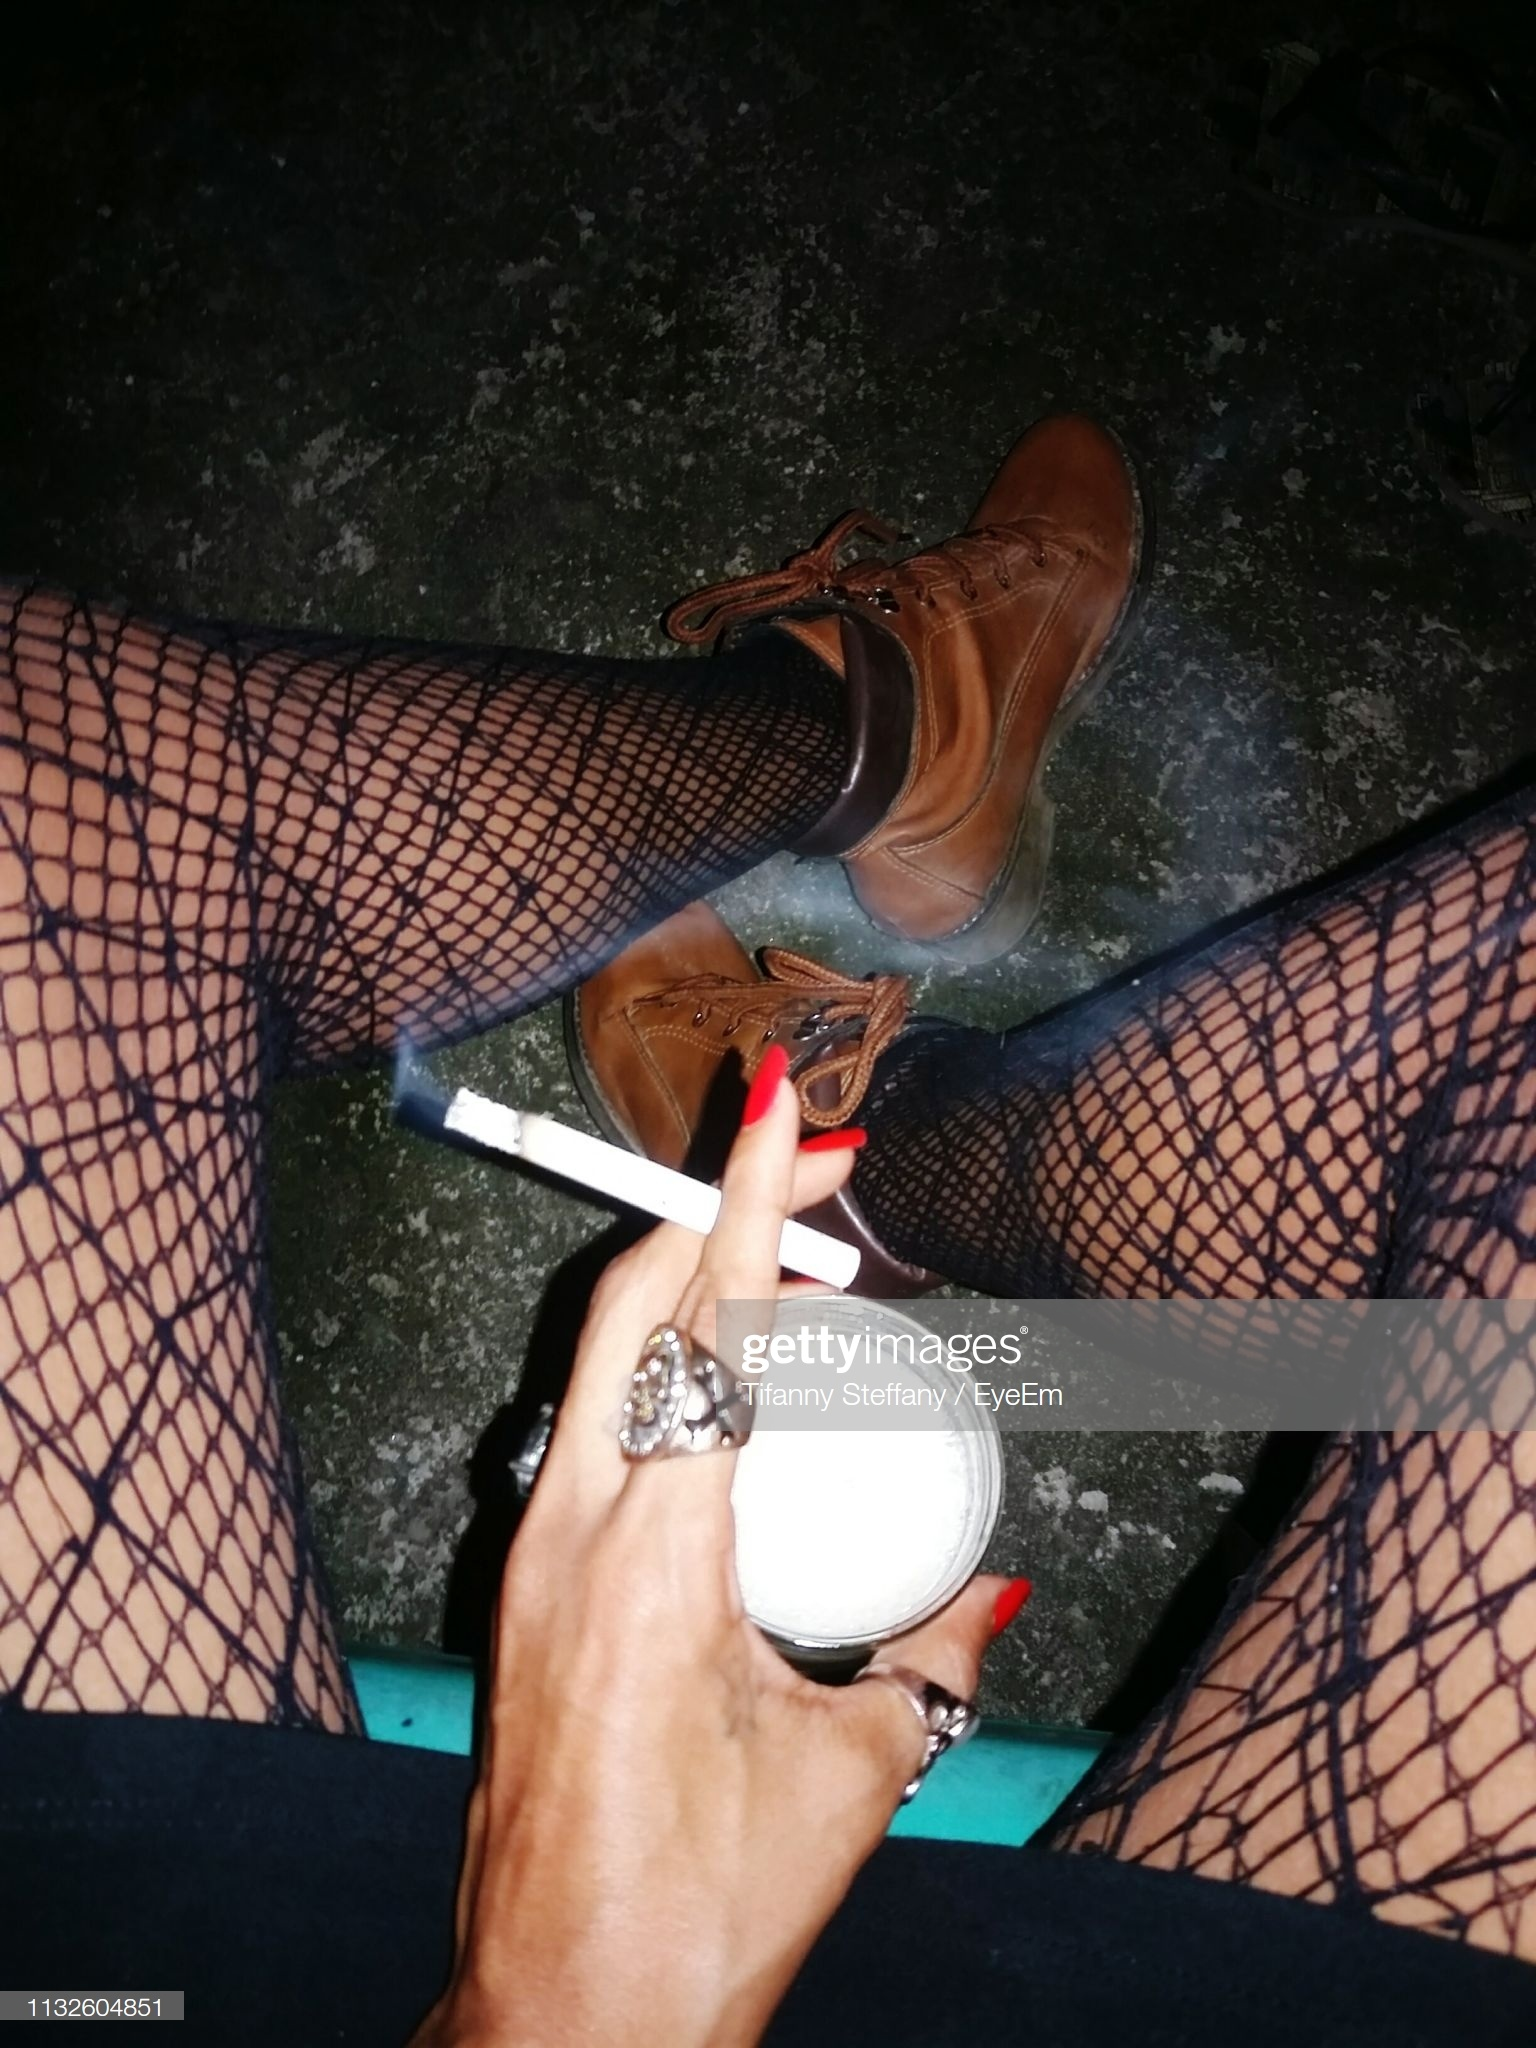sigaretta: (466, 1071, 886, 1276)
